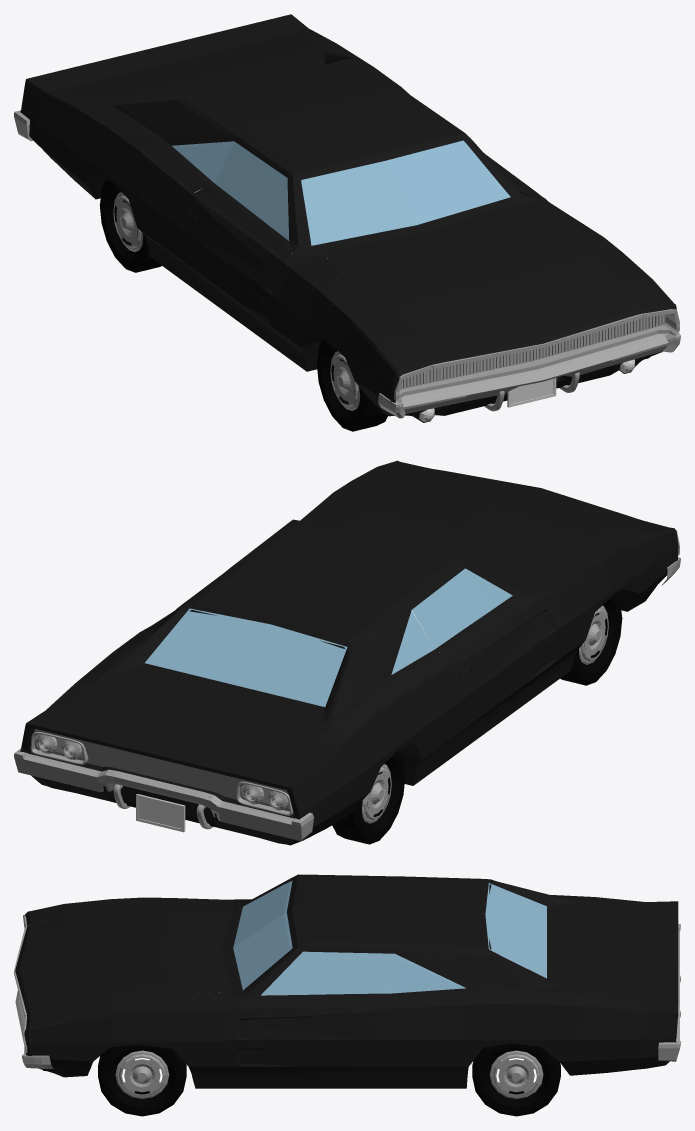
The model's file is Car.obj.
The picture shows the model from 3 angles, top to bottom: view 1: azimuth 30°, elevation 25°; view 2: azimuth 150°, elevation 25°; view 3: azimuth 270°, elevation 25°; orthographic projection. The views are drawn at different scales.
Parts seen in each view (by area): view 1: Carroceria_Plano.004, Carroceria.002_Plano.016, Vidris_Plano.005, Puertas_Plano, Parachoques_delantero_Cubo.001, Vidris.001_Plano.008, Carroceria.001_Plano.015, Cubo.002, Círculo, Círculo.003_Círculo.006, Vidris.003_Plano.010, Carroceria.003_Plano.017 (+3 smaller); view 2: Carroceria_Plano.004, Carroceria.002_Plano.016, Vidris.002_Plano.009, Puertas_Plano, Cubo, Vidris.001_Plano.008, Plano.003_Plano.014, Círculo.003_Círculo.006, Círculo, Plano.004_Plano.002, Círculo.006_Círculo.011, Vidris.003_Plano.010 (+3 smaller); view 3: Carroceria_Plano.004, Carroceria.002_Plano.016, Puertas_Plano, Vidris.001_Plano.008, Vidris.002_Plano.009, Vidris_Plano.005, Círculo.003_Círculo.006, Círculo, Vidris.003_Plano.010, Círculo.002, Círculo.004_Círculo.007, Círculo.005_Círculo.008 (+3 smaller).
Boxes of the visible parts, box(x1,y1,x2,y2) form: Carroceria_Plano.004: box(20, 14, 676, 422); Carroceria.002_Plano.016: box(323, 207, 641, 364); Vidris_Plano.005: box(301, 140, 510, 245); Puertas_Plano: box(177, 153, 548, 344); Parachoques_delantero_Cubo.001: box(378, 333, 680, 418); Vidris.001_Plano.008: box(214, 140, 464, 240); Carroceria.001_Plano.015: box(394, 309, 679, 402); Cubo.002: box(400, 316, 654, 389); Círculo: box(317, 339, 387, 431); Círculo.003_Círculo.006: box(99, 179, 161, 272); Vidris.003_Plano.010: box(172, 141, 233, 182); Carroceria.003_Plano.017: box(432, 314, 641, 369); Carroceria_Plano.004: box(20, 460, 678, 845); Carroceria.002_Plano.016: box(332, 468, 637, 581); Vidris.002_Plano.009: box(145, 608, 347, 706); Puertas_Plano: box(435, 592, 563, 742); Cubo: box(14, 748, 313, 841); Vidris.001_Plano.008: box(412, 568, 512, 648); Plano.003_Plano.014: box(34, 729, 289, 811); Círculo.003_Círculo.006: box(332, 750, 405, 844); Círculo: box(560, 593, 622, 685); Plano.004_Plano.002: box(136, 794, 185, 832); Círculo.006_Círculo.011: box(36, 734, 288, 810); Vidris.003_Plano.010: box(391, 611, 434, 674); Carroceria_Plano.004: box(24, 874, 678, 1088); Carroceria.002_Plano.016: box(15, 908, 228, 1014); Puertas_Plano: box(227, 899, 399, 1079); Vidris.001_Plano.008: box(261, 951, 394, 995); Vidris.002_Plano.009: box(485, 883, 546, 978); Vidris_Plano.005: box(233, 880, 292, 990); Círculo.003_Círculo.006: box(472, 1043, 560, 1116); Círculo: box(98, 1045, 186, 1116); Vidris.003_Plano.010: box(392, 954, 465, 993); Círculo.002: box(123, 1059, 160, 1092); Círculo.004_Círculo.007: box(498, 1059, 535, 1092); Círculo.005_Círculo.008: box(489, 1050, 543, 1099).
Bounding box in the file's own units: 3.66 × 2.17 × 8.49.
